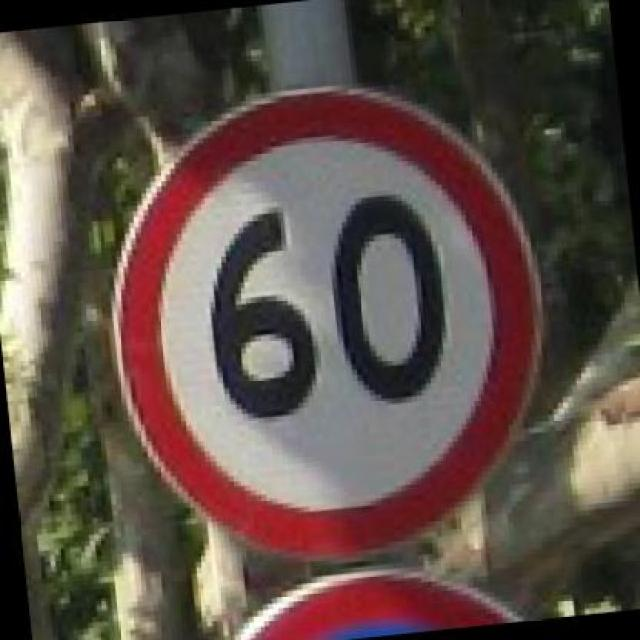Limite-60: (105, 82, 548, 564)
